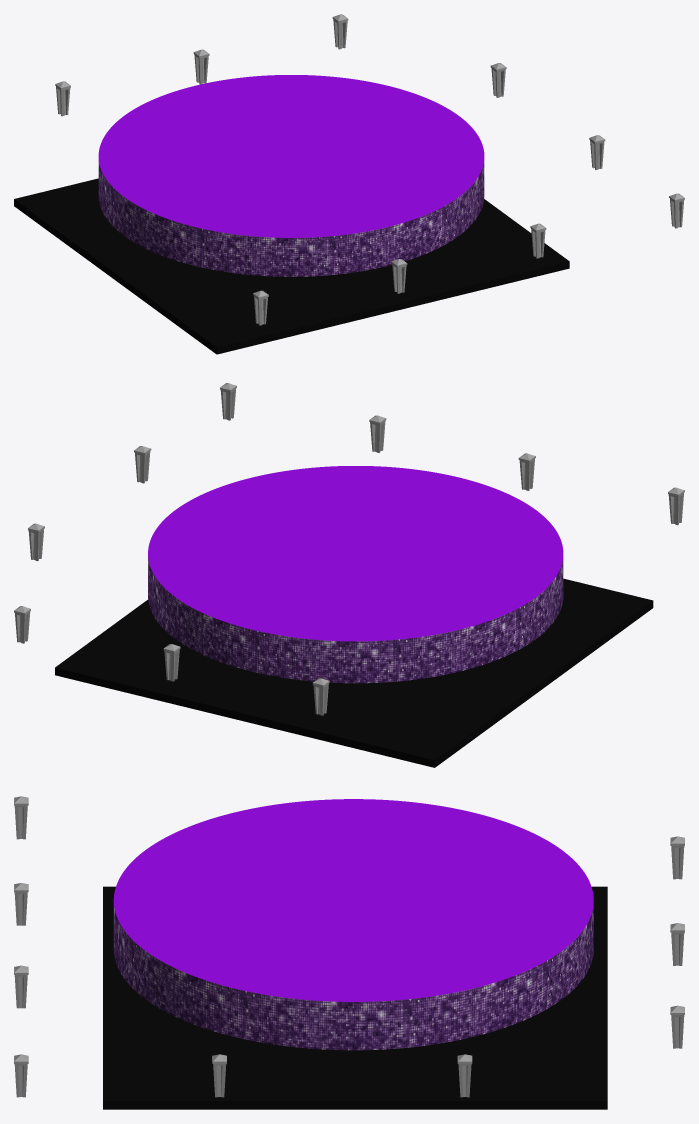
File: EstructuraOlla 4.fbx
3 renders of one model, top to bottom at view 1: azimuth 30°, elevation 25°; view 2: azimuth 150°, elevation 25°; view 3: azimuth 270°, elevation 25°, orthographic. The views are drawn at different scales.
Visible parts, largest first — view 1: Cube.005; view 2: Cube.005; view 3: Cube.005.
Part boxes in pixels (box(x1,y1,x2,y2)): Cube.005: box(14, 14, 684, 354); Cube.005: box(14, 383, 684, 767); Cube.005: box(14, 796, 684, 1109).
Size of the model in its own units: 610 by 115 by 659.
Materials: 4 (1 with a texture image).
